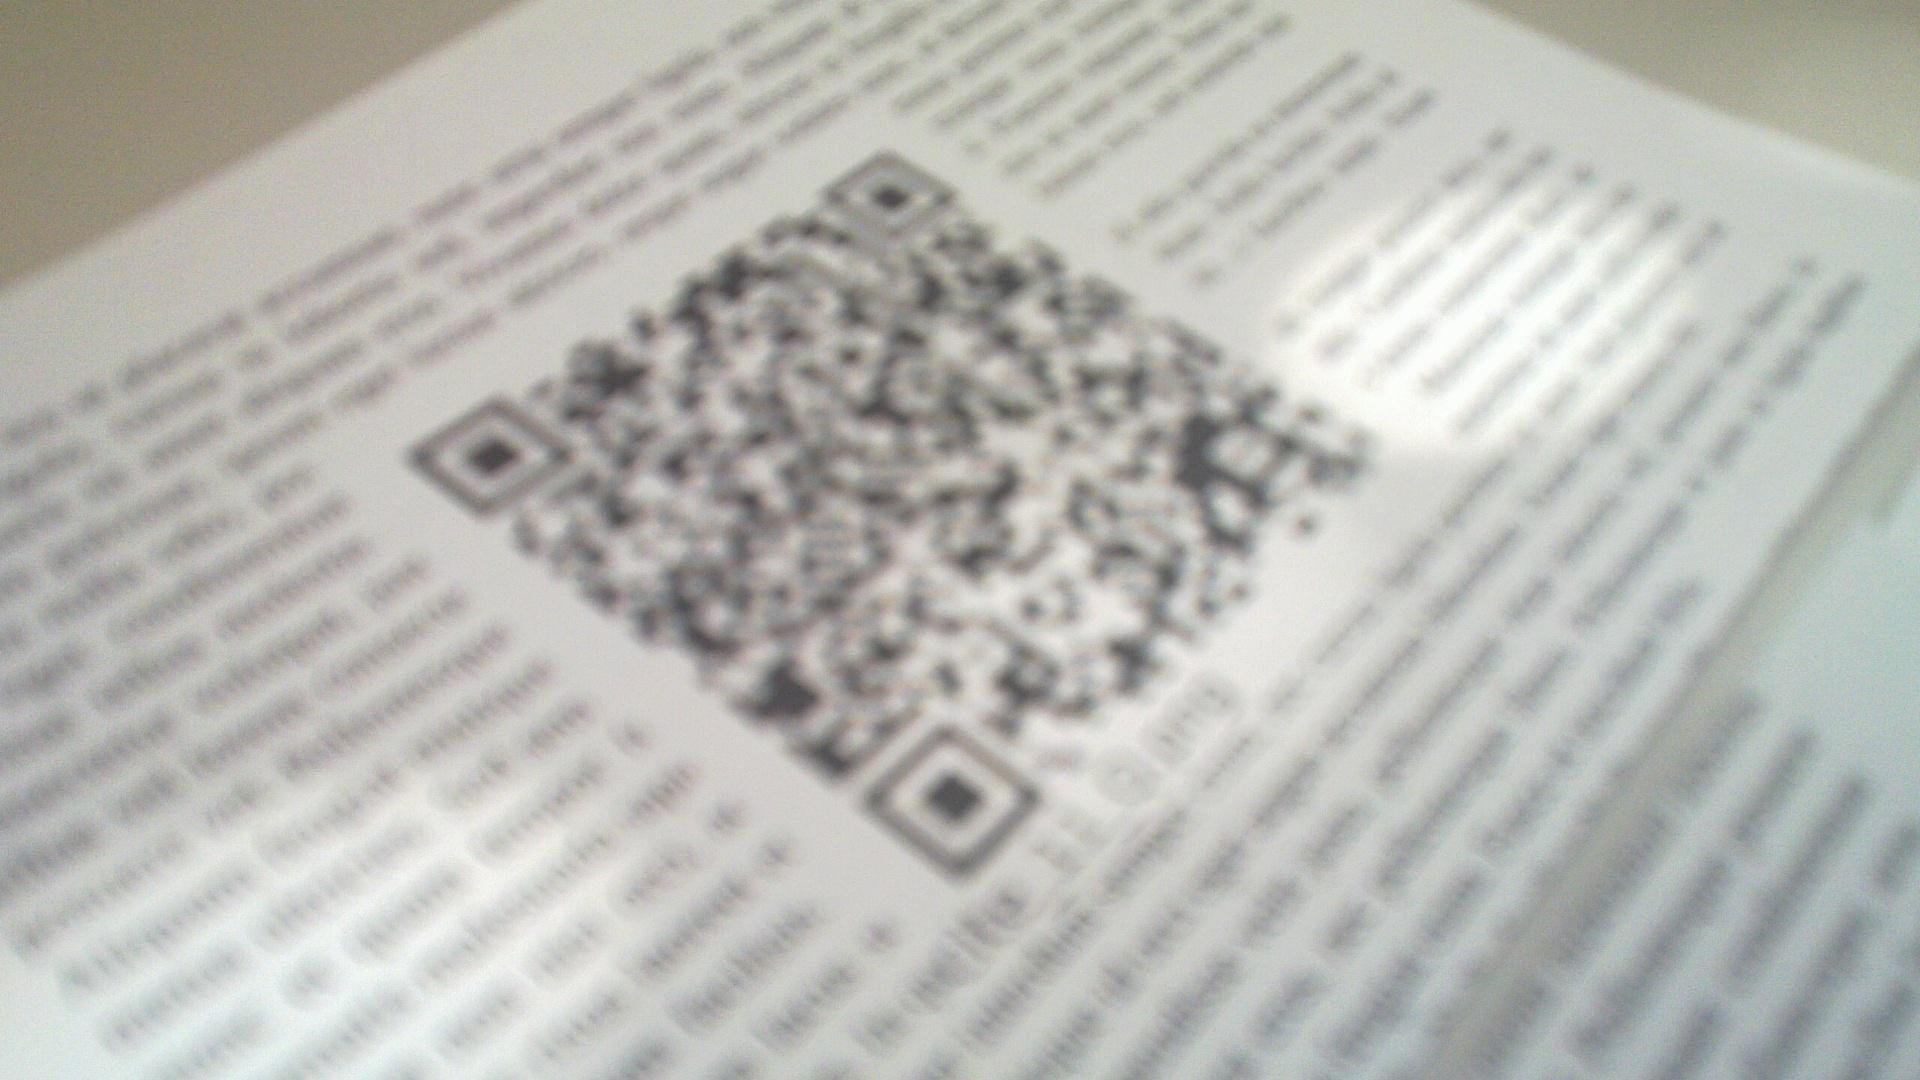Finder pattern: (861, 728, 1039, 873), (401, 407, 574, 516), (822, 148, 956, 239)
